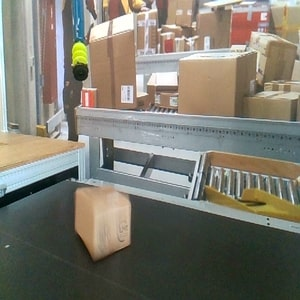box: (73, 183, 133, 263)
